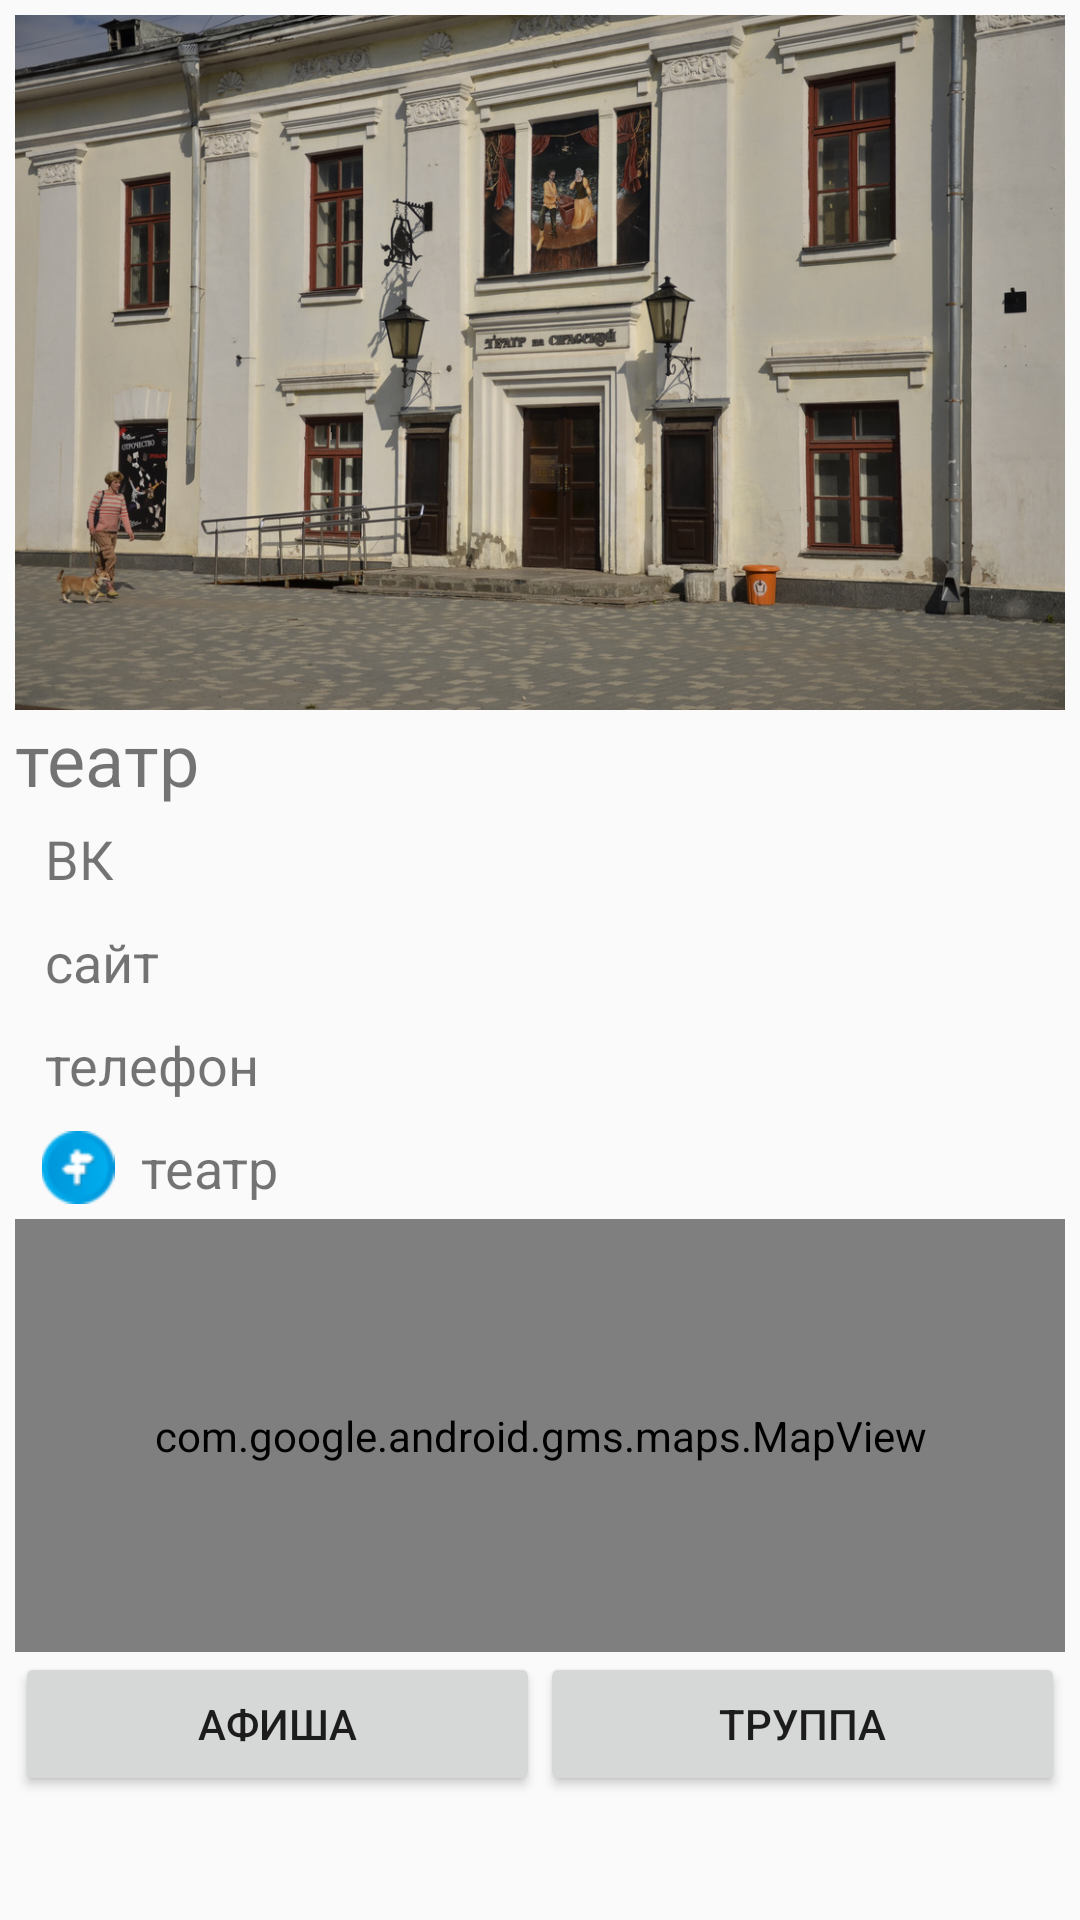

Icons on this 1080 × 1920 Android screen, each with the point to tap as [x,y]:
address: [78,1167]
